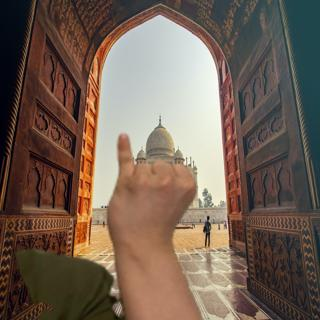FINE: (101, 131, 200, 253)
